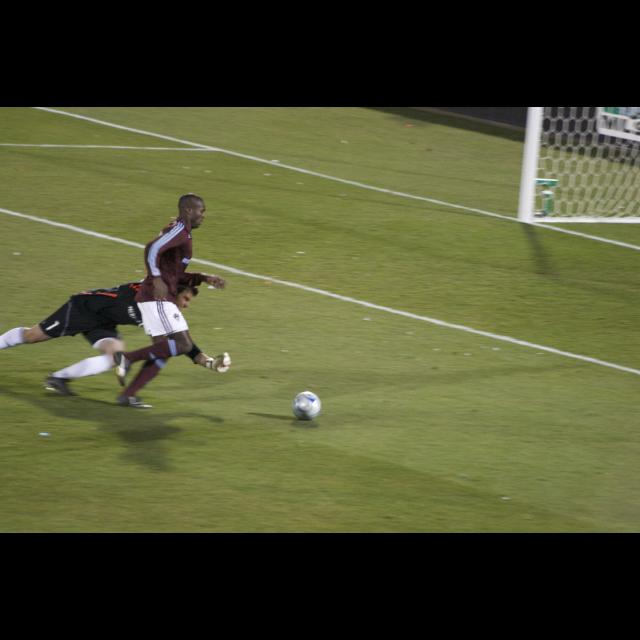Football: (292, 391, 322, 419)
